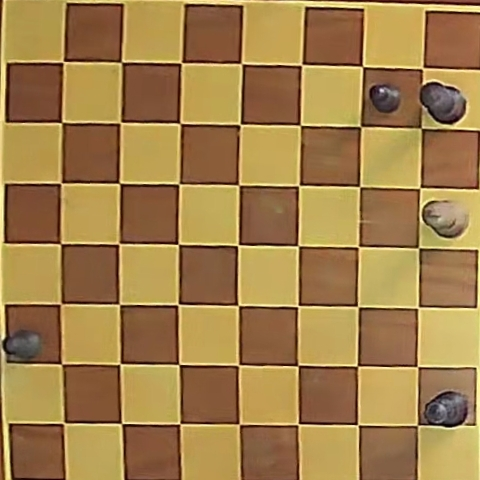black-king: (419, 81, 466, 123)
black-pawn: (3, 330, 43, 361), (370, 84, 401, 113)
black-queen: (423, 390, 468, 428)
white-king: (422, 200, 468, 237)
